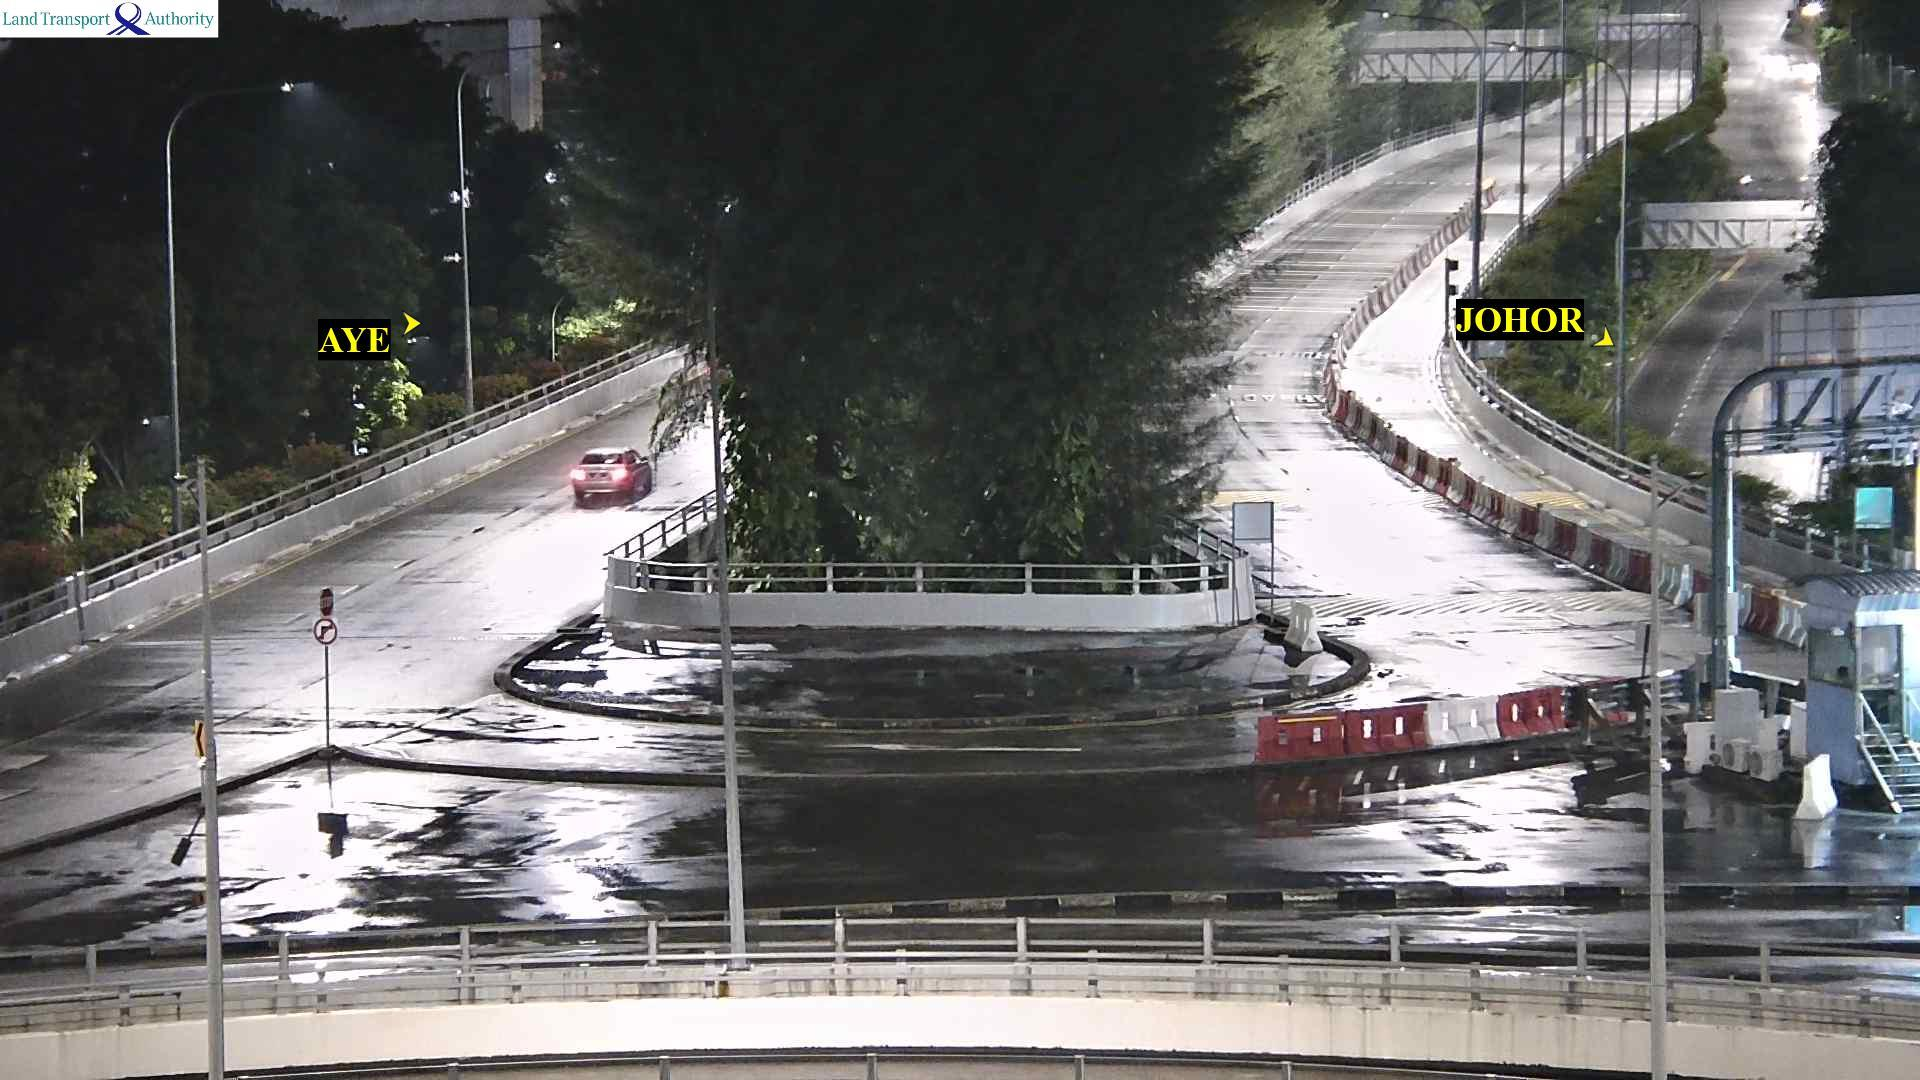vehicle-secondlink-singapore: (574, 449, 656, 506)
